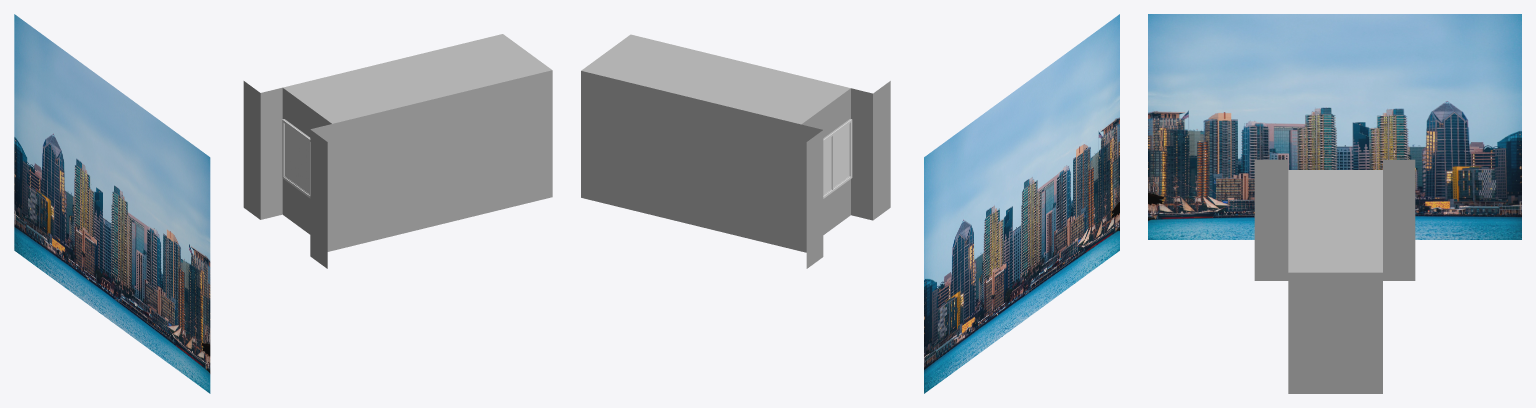
Rendered from desk-optimized.glb.
3 renders of one model, left to right at view 1: azimuth 30°, elevation 25°; view 2: azimuth 150°, elevation 25°; view 3: azimuth 270°, elevation 25°, orthographic. The views are drawn at different scales.
Visible parts, largest first — view 1: Room.002, Day, Window; view 2: Room.002, Day, Window; view 3: Day, Room.002.
Part boxes in pixels (<box>): Room.002: <box>243,34,552,268</box>; Day: <box>14,14,210,393</box>; Window: <box>282,119,310,198</box>; Room.002: <box>581,34,890,268</box>; Day: <box>924,14,1119,393</box>; Window: <box>823,119,852,198</box>; Day: <box>1148,14,1521,239</box>; Room.002: <box>1254,159,1415,393</box>.
Bounding box in the file's own units: 10.09 × 5.49 × 8.23.
Materials: 54 (10 with a texture image).
